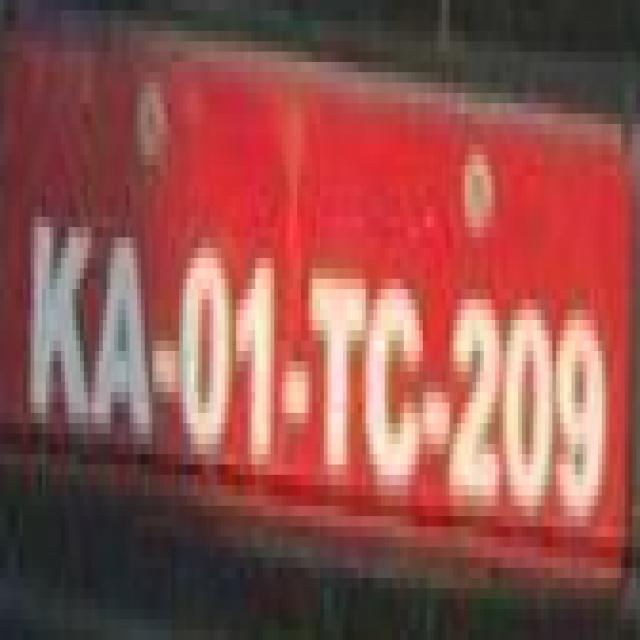0: (177, 229, 239, 470), (502, 275, 557, 531)
1: (232, 216, 281, 484)
9: (556, 276, 617, 538)
A: (89, 212, 156, 456)
C: (366, 269, 429, 512)
K: (18, 188, 102, 443)
T: (305, 250, 369, 496)
